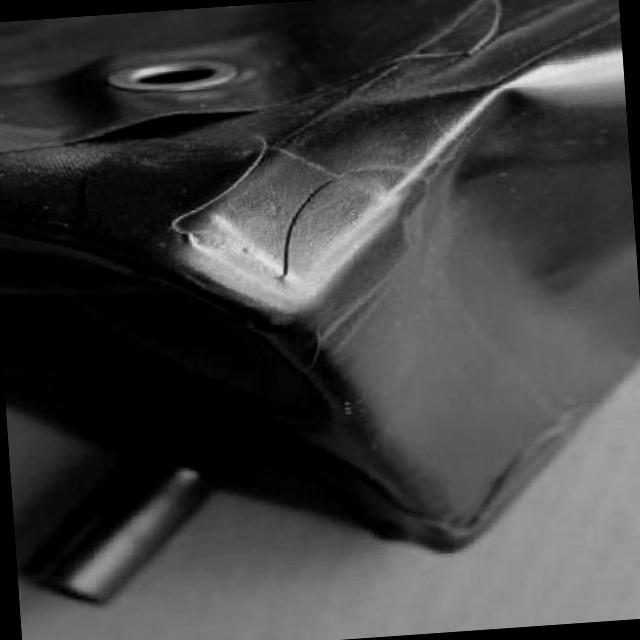crack: (256, 176, 335, 272)
